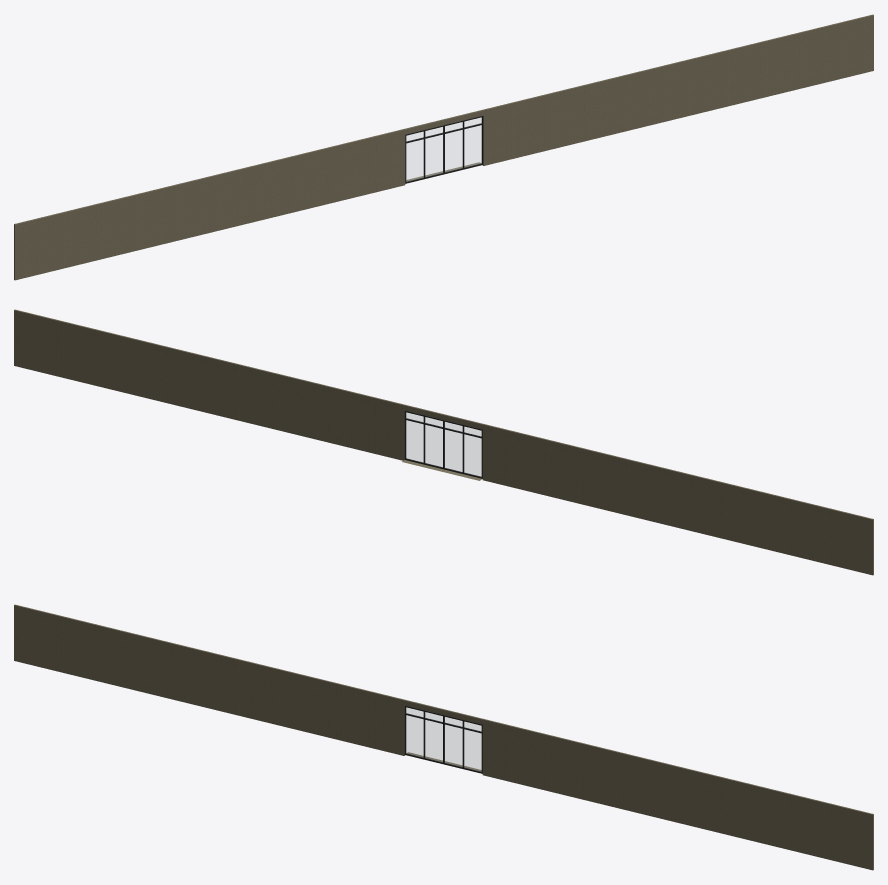
The model's file is cap.glb.
3 renders of one model, top to bottom at view 1: azimuth 30°, elevation 25°; view 2: azimuth 150°, elevation 25°; view 3: azimuth 330°, elevation 25°, orthographic.
Parts seen in each view (by area): view 1: cap-baked-concrete, cap-glass-glass, cap-baked-metal-dark; view 2: cap-baked-concrete, cap-glass-glass, cap-baked-metal-dark; view 3: cap-baked-concrete, cap-glass-glass, cap-baked-metal-dark.
Boxes of the visible parts, x1=… form: cap-baked-concrete: x1=14, y1=14, x2=873, y2=280; cap-glass-glass: x1=406, y1=117, x2=481, y2=181; cap-baked-metal-dark: x1=405, y1=116, x2=483, y2=183; cap-baked-concrete: x1=14, y1=309, x2=873, y2=575; cap-glass-glass: x1=406, y1=412, x2=481, y2=476; cap-baked-metal-dark: x1=404, y1=411, x2=482, y2=478; cap-baked-concrete: x1=14, y1=604, x2=873, y2=870; cap-glass-glass: x1=406, y1=707, x2=481, y2=771; cap-baked-metal-dark: x1=404, y1=706, x2=482, y2=773.
Size of what is drawn, in the model's own units: 66 by 4.1 by 0.5005.
5 materials, 2 textured.
